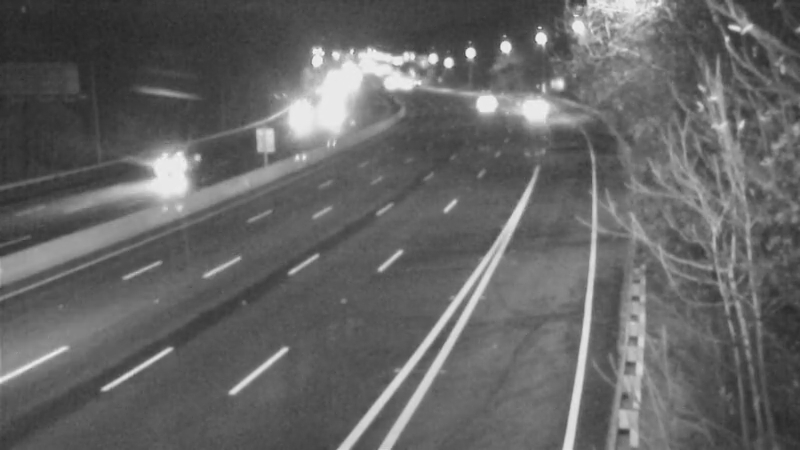vehicle: (120, 132, 200, 212), (515, 85, 565, 135), (457, 75, 507, 125), (271, 92, 321, 142)
